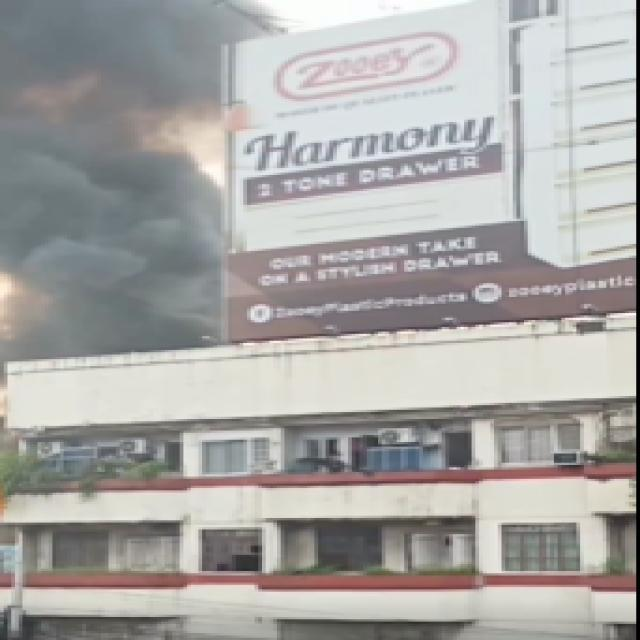Smoke: (0, 0, 253, 361)
